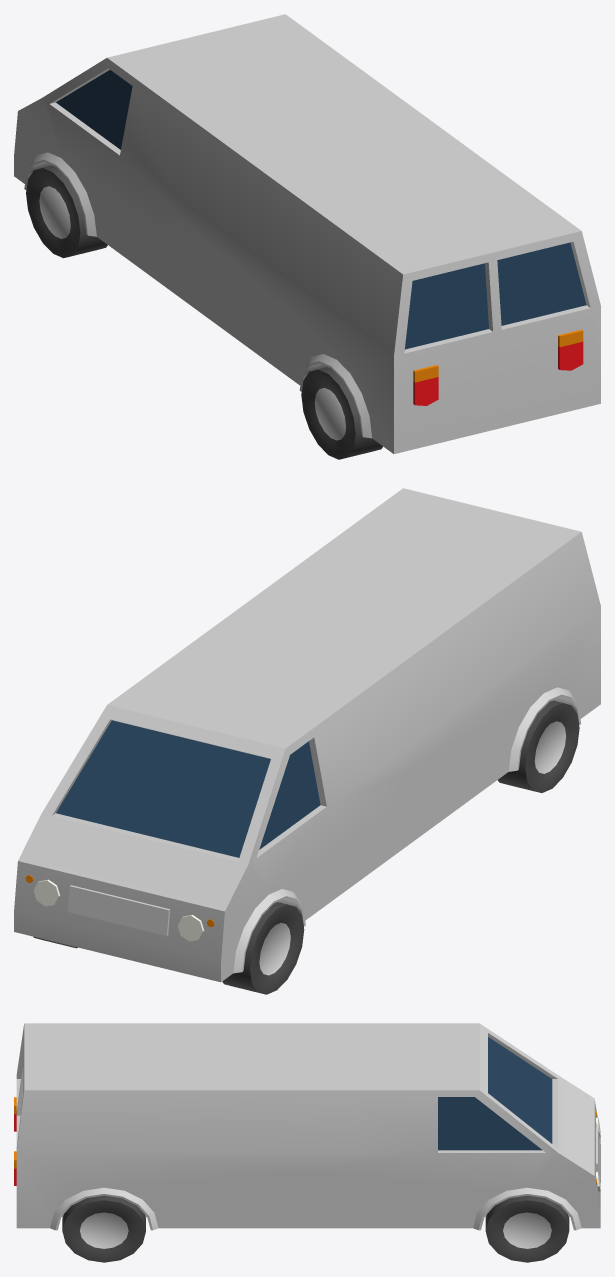
Rendered from moving_truck.glb.
3 renders of one model, top to bottom at view 1: azimuth 30°, elevation 25°; view 2: azimuth 150°, elevation 25°; view 3: azimuth 270°, elevation 25°, orthographic. The views are drawn at different scales.
Visible parts, largest first — view 1: MovingTruck; view 2: MovingTruck; view 3: MovingTruck.
Part boxes in pixels (x1,y1,x2,y2): MovingTruck: (14,14,600,459); MovingTruck: (14,488,600,994); MovingTruck: (14,1023,600,1262).
Size of the model in its own units: 2.4 by 2.19 by 7.1.
